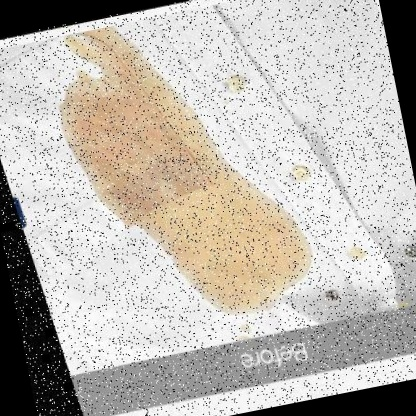coffee: (167, 184, 302, 310), (77, 75, 181, 190)
